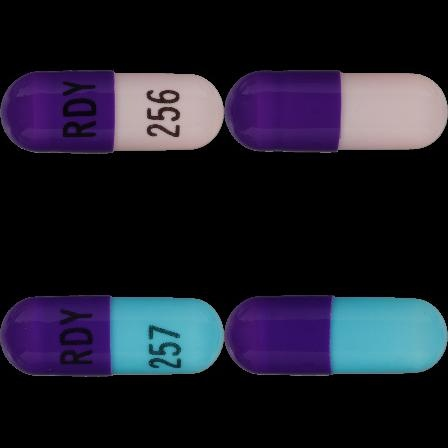61786-789: (0, 0, 224, 224)
